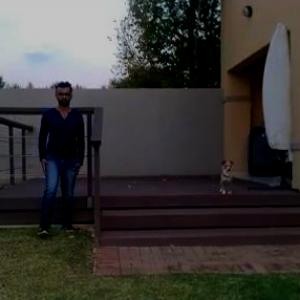follow: (34, 79, 83, 233)
